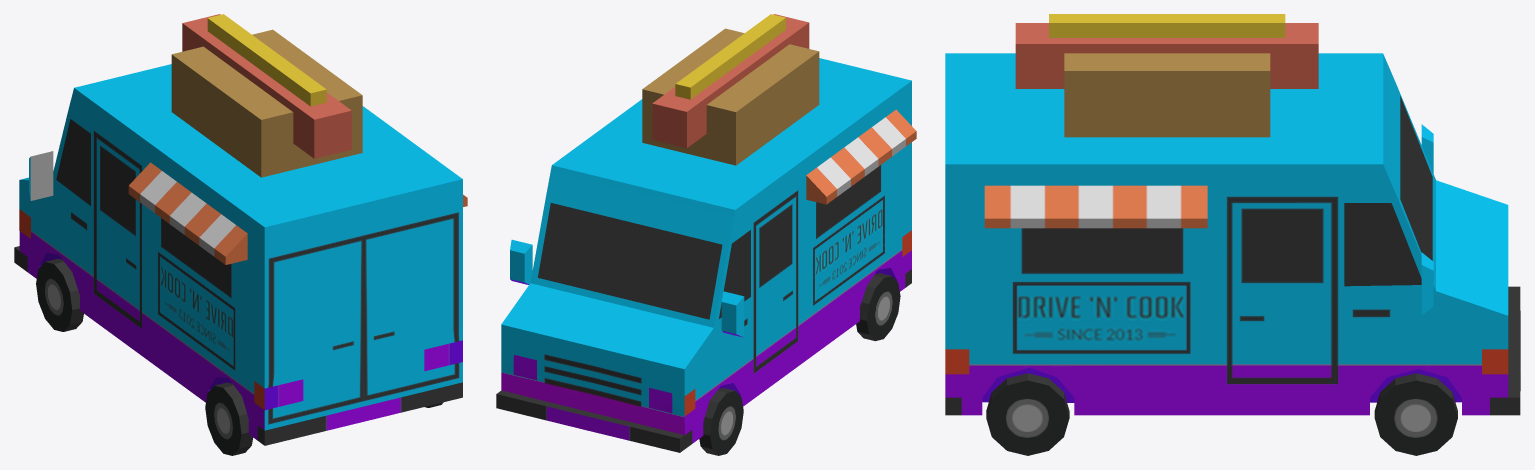
File: Vehicles_HotdogTruck.fbx
3 renders of one model, left to right at view 1: azimuth 30°, elevation 25°; view 2: azimuth 150°, elevation 25°; view 3: azimuth 270°, elevation 25°, orthographic. The views are drawn at different scales.
Parts seen in each view (by area): view 1: Vehicles_HotdogTruck, hotdog_rl_wheel, hotdog_fl_wheel; view 2: Vehicles_HotdogTruck, hotdog_fl_wheel, hotdog_rl_wheel; view 3: Vehicles_HotdogTruck, hotdog_rr_wheel, hotdog_fr_wheel.
Part boxes in pixels (box(x1,y1,x2,y2)): Vehicles_HotdogTruck: box(14, 14, 467, 445); hotdog_rl_wheel: box(205, 382, 253, 455); hotdog_fl_wheel: box(36, 258, 83, 331); Vehicles_HotdogTruck: box(496, 14, 916, 452); hotdog_fl_wheel: box(699, 388, 743, 455); hotdog_rl_wheel: box(856, 273, 900, 341); Vehicles_HotdogTruck: box(945, 14, 1520, 415); hotdog_rr_wheel: box(986, 373, 1069, 455); hotdog_fr_wheel: box(1374, 373, 1457, 455).
Size of the model in its own units: 344 by 431 by 594.
1 material, 1 textured.
